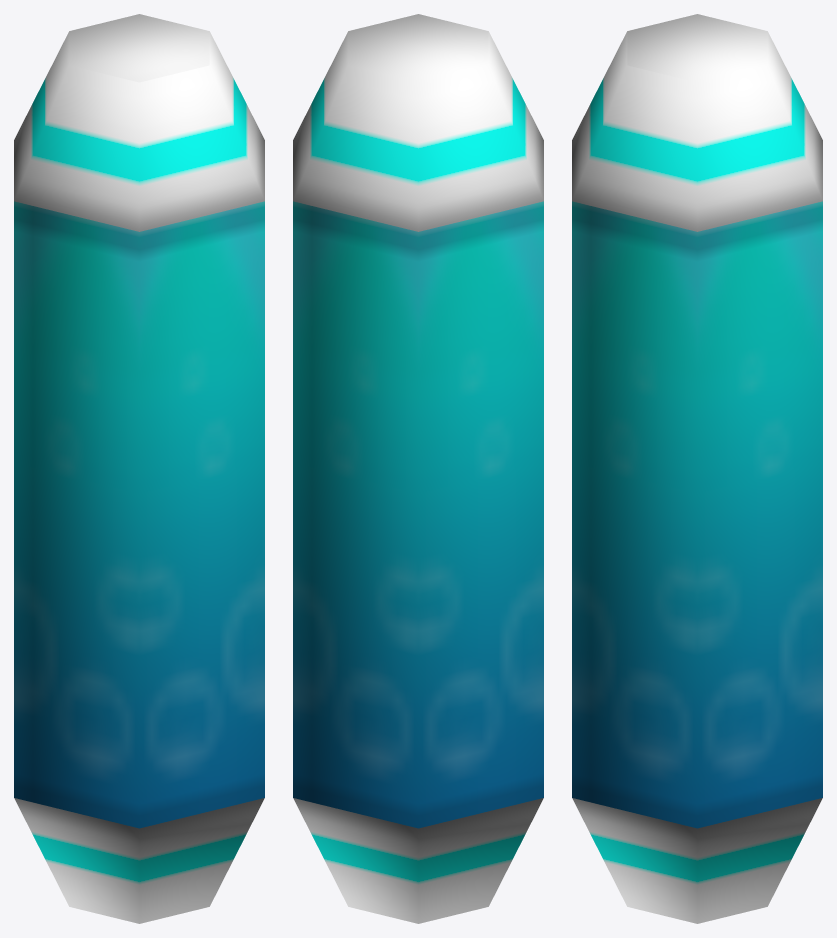
File: potion_b1.FBX
3 renders of one model, left to right at view 1: azimuth 30°, elevation 25°; view 2: azimuth 150°, elevation 25°; view 3: azimuth 270°, elevation 25°, orthographic.
Visible parts, largest first — view 1: potion_b1; view 2: potion_b1; view 3: potion_b1.
Boxes of the visible parts, x1,y1,x2,y2 form: potion_b1: (14,14,264,923); potion_b1: (293,14,543,923); potion_b1: (572,14,822,923).
Size of the model in its own units: 22.62 by 72.49 by 19.59.
